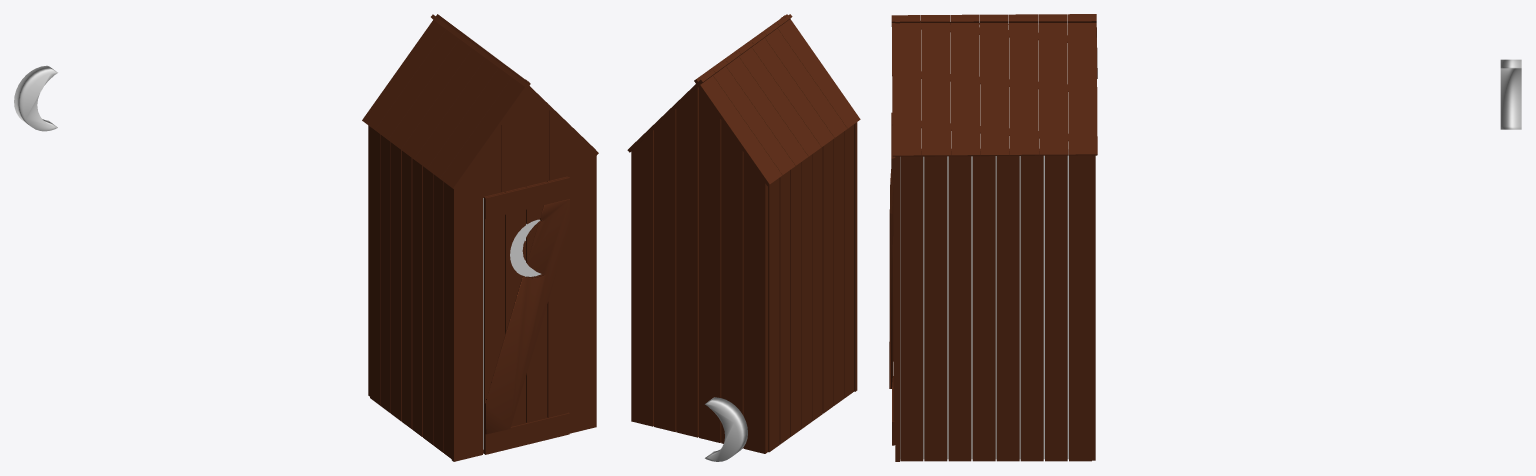
File: shed.fbx
3 renders of one model, left to right at view 1: azimuth 30°, elevation 25°; view 2: azimuth 150°, elevation 25°; view 3: azimuth 270°, elevation 25°, orthographic. The views are drawn at different scales.
Visible parts, largest first — view 1: planks front, wall left, door, roof left, moon, outhouse model, roof right; view 2: planks back, wall left, roof left, moon, planks front, roof right; view 3: wall right, roof right, outhouse model, planks front, door, moon, roof left, planks back.
Boxes of the visible parts, left/top/right/bottom form: planks front: left=451, top=79, right=596, bottom=461; wall left: left=370, top=127, right=451, bottom=458; door: left=483, top=176, right=569, bottom=454; roof left: left=362, top=14, right=530, bottom=189; moon: left=14, top=65, right=57, bottom=131; outhouse model: left=483, top=198, right=541, bottom=449; roof right: left=431, top=14, right=598, bottom=155; planks back: left=631, top=87, right=767, bottom=453; wall left: left=768, top=124, right=853, bottom=452; roof left: left=694, top=14, right=860, bottom=185; moon: left=705, top=397, right=747, bottom=461; planks front: left=780, top=15, right=857, bottom=391; roof right: left=627, top=14, right=792, bottom=152; wall right: left=900, top=149, right=1091, bottom=461; roof right: left=891, top=14, right=1097, bottom=156; outhouse model: left=900, top=25, right=1068, bottom=459; planks front: left=895, top=15, right=899, bottom=461; door: left=889, top=112, right=895, bottom=445; moon: left=1500, top=59, right=1521, bottom=129; roof left: left=891, top=17, right=1097, bottom=78; planks back: left=1092, top=155, right=1095, bottom=460.
Size of the model in its own units: 1219 by 1401 by 1966.
